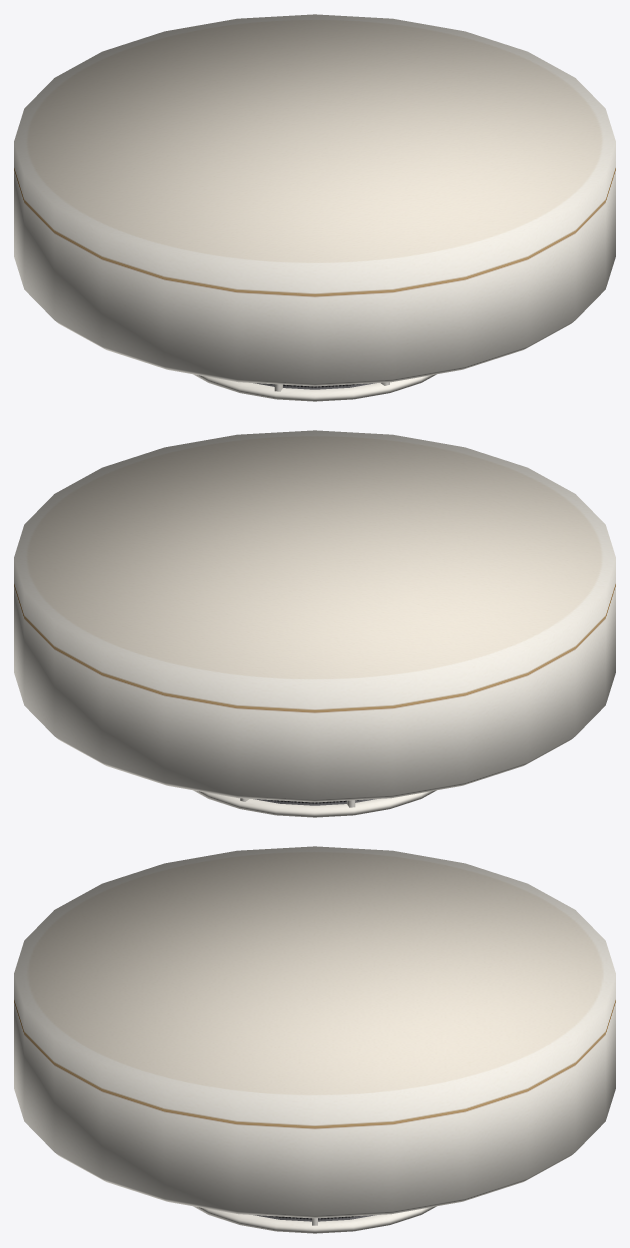
The model's file is FireAlarm_ch1.fbx.
3 renders of one model, top to bottom at view 1: azimuth 30°, elevation 25°; view 2: azimuth 150°, elevation 25°; view 3: azimuth 270°, elevation 25°, orthographic.
Parts seen in each view (by area): view 1: body; view 2: body; view 3: body.
Part boxes in pixels (left/top/right/bottom): body: left=14, top=14, right=615, bottom=401; body: left=14, top=430, right=615, bottom=817; body: left=14, top=846, right=615, bottom=1233.
Size of the model in its own units: 0.1 by 0.0363 by 0.1.
Materials: 3 (3 with a texture image).
